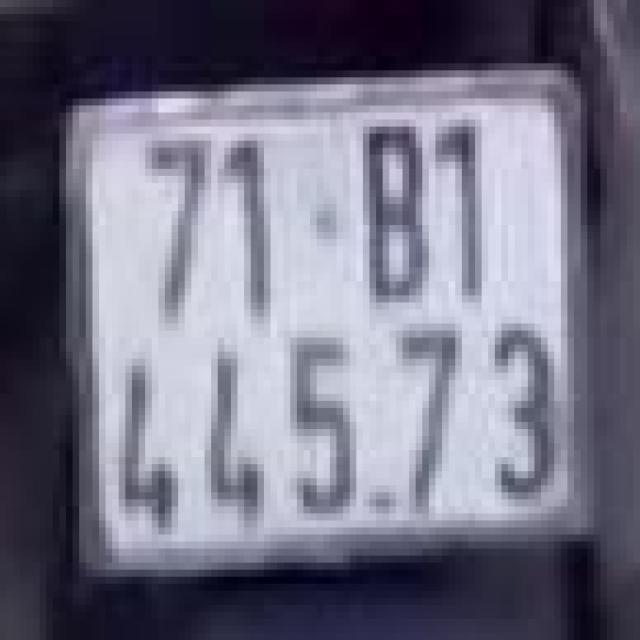1: (221, 130, 287, 341), (432, 102, 492, 320)
3: (478, 313, 571, 524)
4: (188, 338, 267, 548), (112, 352, 185, 534)
5: (287, 313, 360, 538)
7: (389, 310, 468, 528), (145, 127, 211, 330)
B: (353, 109, 432, 313)
